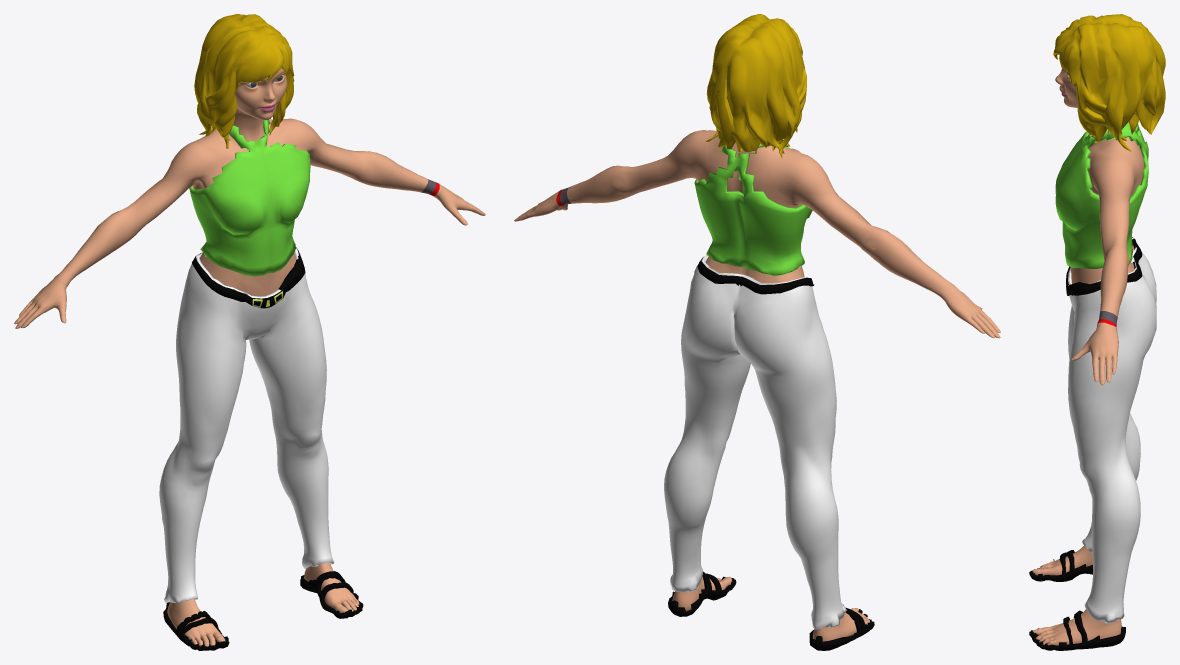
Rendered from NPC FEM.fbx.
The picture shows the model from 3 angles, left to right: view 1: azimuth 30°, elevation 25°; view 2: azimuth 150°, elevation 25°; view 3: azimuth 270°, elevation 25°; orthographic projection. The views are drawn at different scales.
Visible parts, largest first — view 1: Body.002, Body, Body.001, Wolf3D_Hair, Body.004, Body.003; view 2: Body.002, Body, Wolf3D_Hair, Body.001, Body.004, Body.003; view 3: Body.002, Body, Wolf3D_Hair, Body.001, Body.004, Body.003.
Part boxes in pixels (<box>): Body.002: <box>159,248,333,603</box>; Body: <box>14,68,485,646</box>; Body.001: <box>189,119,310,276</box>; Wolf3D_Hair: <box>194,14,294,148</box>; Body.004: <box>163,571,363,650</box>; Body.003: <box>192,247,305,308</box>; Body.002: <box>664,255,847,629</box>; Body: <box>514,130,1000,641</box>; Wolf3D_Hair: <box>706,14,806,157</box>; Body.001: <box>694,139,812,275</box>; Body.004: <box>668,571,874,650</box>; Body.003: <box>697,257,814,294</box>; Body.002: <box>1068,237,1156,623</box>; Body: <box>1032,68,1144,645</box>; Wolf3D_Hair: <box>1053,14,1165,151</box>; Body.001: <box>1055,122,1148,268</box>; Body.004: <box>1029,550,1125,650</box>; Body.003: <box>1066,237,1142,295</box>.
Size of the model in its own units: 185 by 221 by 46.25.
